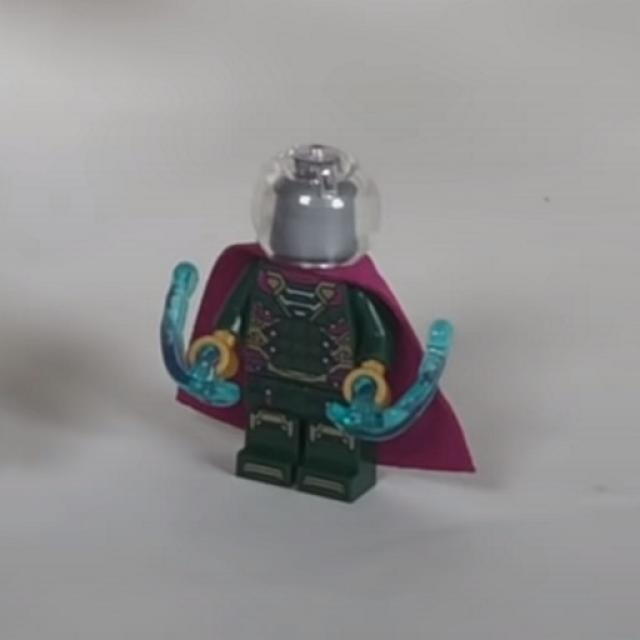Lego-Minifigures: (119, 110, 498, 528)
